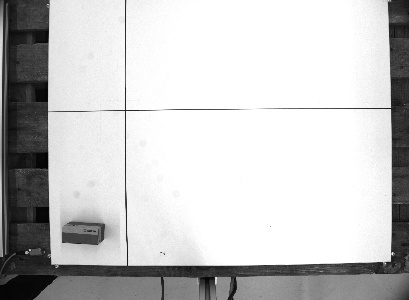b3: (59, 220, 106, 246)
